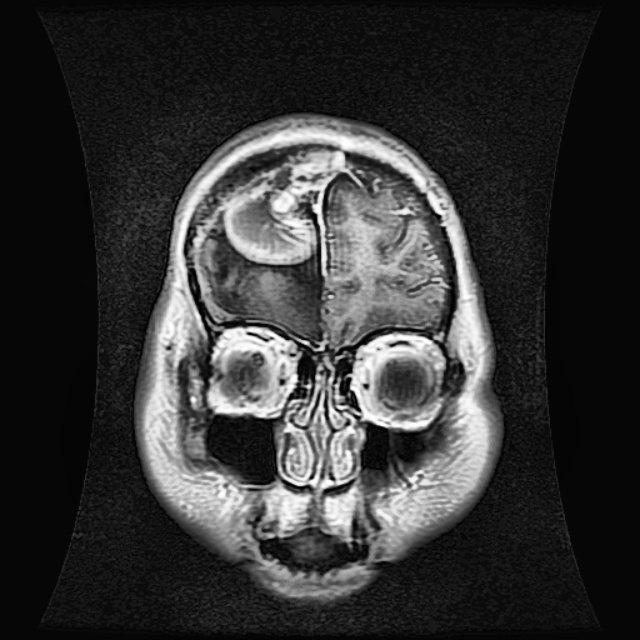Meningioma: (223, 152, 344, 265)
